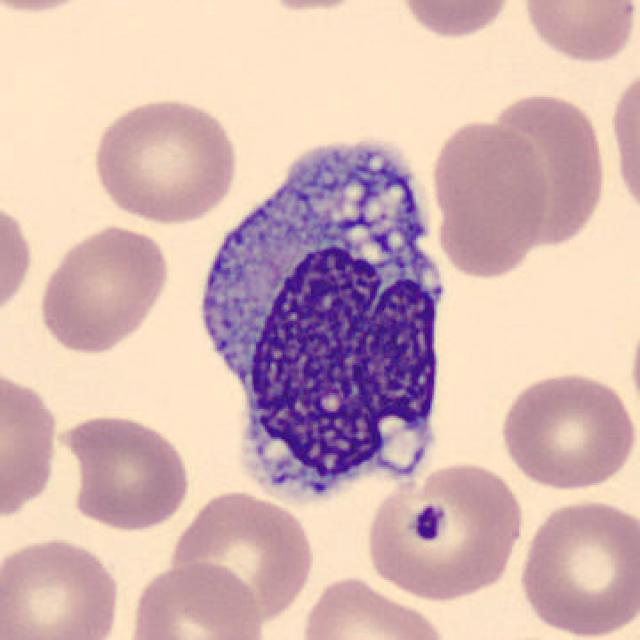Monocyte: (187, 113, 460, 518)
Platelets: (410, 498, 452, 546)
RBC: (362, 458, 530, 605), (478, 88, 612, 249), (167, 487, 318, 628), (87, 91, 244, 226), (427, 115, 553, 280), (34, 220, 172, 356), (496, 366, 638, 494), (516, 494, 638, 638), (57, 409, 194, 534), (0, 532, 124, 639), (124, 559, 265, 640), (297, 573, 453, 640), (0, 362, 62, 527), (515, 0, 640, 67), (606, 62, 640, 225), (393, 0, 519, 41), (0, 194, 37, 326), (236, 0, 384, 14), (626, 300, 640, 442), (0, 0, 107, 16)
